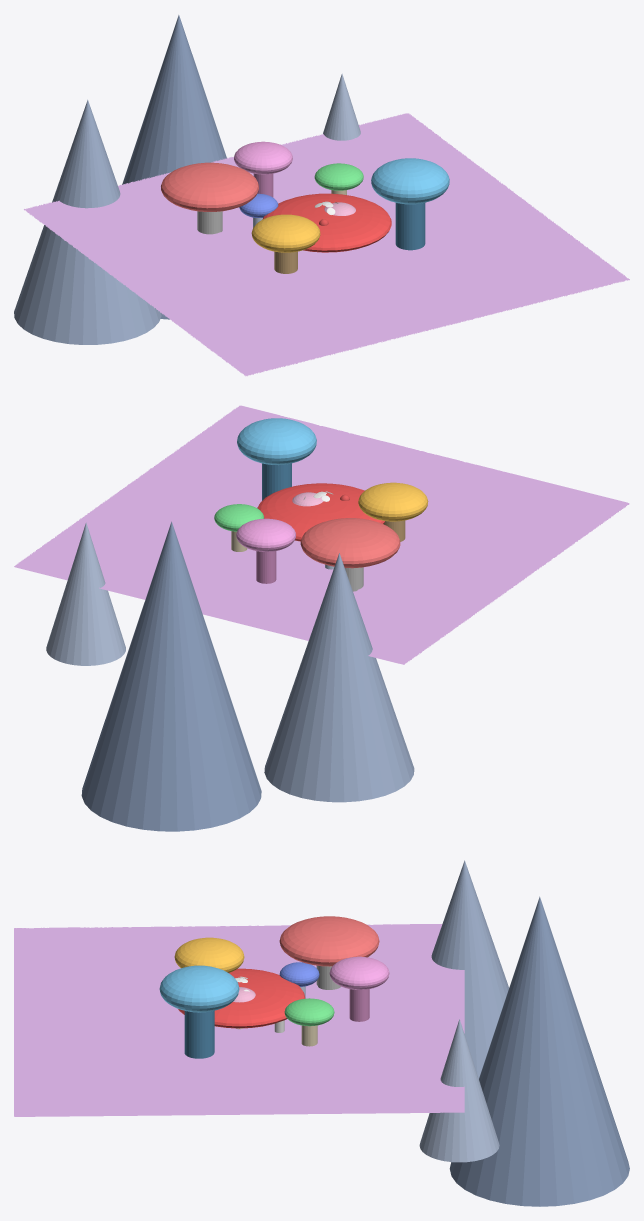
File: small_tall_mushroom1.glb
3 renders of one model, top to bottom at view 1: azimuth 30°, elevation 25°; view 2: azimuth 150°, elevation 25°; view 3: azimuth 270°, elevation 25°, orthographic.
Visible parts, largest first — view 1: ColorfulGround, Mountain1, Mountain2, BouncePadMushroom, BouncePad5Cap, BouncePad4, BouncePad3, BouncePad2, Mountain3, BouncePad4Stem, BouncePad1, Mushroom2Cap (+2 smaller); view 2: ColorfulGround, Mountain2, Mountain1, Mountain3, BouncePad5Cap, BouncePadMushroom, BouncePad4, BouncePad3, BouncePad2, BouncePad1, BouncePad4Stem, BouncePad2Stem; view 3: ColorfulGround, Mountain2, Mountain1, Mountain3, BouncePad5Cap, BouncePadMushroom, BouncePad4, BouncePad3, BouncePad2, BouncePad4Stem, BouncePad1, Mushroom2Cap (+1 smaller).
Boxes of the visible parts, x1=… form: ColorfulGround: x1=24, y1=113, x2=629, y2=376; Mountain1: x1=14, y1=99, x2=161, y2=344; Mountain2: x1=122, y1=15, x2=226, y2=319; BouncePadMushroom: x1=262, y1=193, x2=391, y2=252; BouncePad5Cap: x1=161, y1=162, x2=258, y2=211; BouncePad4: x1=371, y1=158, x2=449, y2=204; BouncePad3: x1=251, y1=214, x2=320, y2=252; BouncePad2: x1=234, y1=141, x2=292, y2=174; Mountain3: x1=323, y1=73, x2=360, y2=140; BouncePad4Stem: x1=395, y1=203, x2=425, y2=250; BouncePad1: x1=314, y1=163, x2=363, y2=190; Mushroom2Cap: x1=239, y1=193, x2=278, y2=217; ColorfulGround: x1=14, y1=405, x2=629, y2=664; Mountain2: x1=81, y1=521, x2=261, y2=831; Mountain1: x1=264, y1=553, x2=414, y2=802; Mountain3: x1=46, y1=522, x2=125, y2=665; BouncePad5Cap: x1=300, y1=518, x2=400, y2=568; BouncePadMushroom: x1=257, y1=483, x2=384, y2=541; BouncePad4: x1=237, y1=418, x2=316, y2=465; BouncePad3: x1=358, y1=482, x2=428, y2=521; BouncePad2: x1=236, y1=518, x2=295, y2=551; BouncePad1: x1=214, y1=504, x2=264, y2=531; BouncePad4Stem: x1=262, y1=463, x2=291, y2=500; BouncePad2Stem: x1=256, y1=551, x2=276, y2=583; ColorfulGround: x1=14, y1=924, x2=464, y2=1116; Mountain2: x1=449, y1=896, x2=629, y2=1206; Mountain1: x1=431, y1=860, x2=508, y2=1078; Mountain3: x1=419, y1=1019, x2=499, y2=1162; BouncePad5Cap: x1=279, y1=916, x2=379, y2=966; BouncePadMushroom: x1=178, y1=968, x2=305, y2=1028; BouncePad4: x1=159, y1=965, x2=239, y2=1012; BouncePad3: x1=174, y1=937, x2=244, y2=972; BouncePad2: x1=329, y1=956, x2=389, y2=989; BouncePad4Stem: x1=184, y1=1010, x2=214, y2=1058; BouncePad1: x1=284, y1=998, x2=334, y2=1026; Mushroom2Cap: x1=279, y1=962, x2=319, y2=986.
Size of the model in its own units: 45.06 by 30.04 by 61.58.
